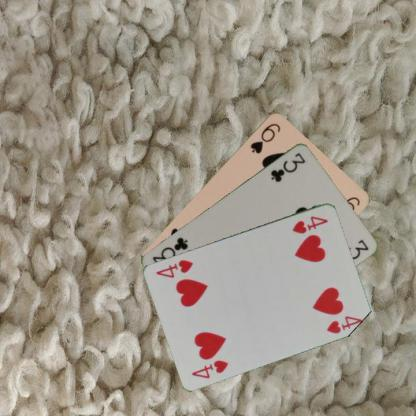3c: (267, 150, 307, 183)
4h: (189, 357, 229, 380), (289, 213, 330, 235)
6s: (247, 119, 282, 154)
